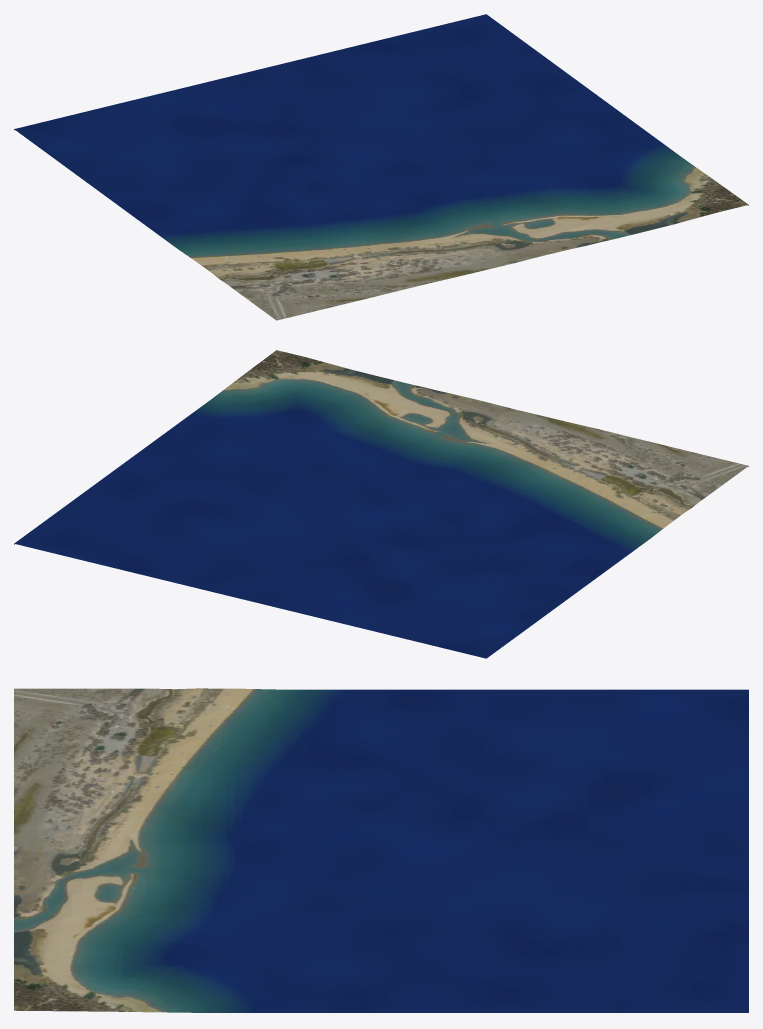
3 renders of one model, top to bottom at view 1: azimuth 30°, elevation 25°; view 2: azimuth 150°, elevation 25°; view 3: azimuth 270°, elevation 25°, orthographic. The views are drawn at different scales.
Bounding box in the file's own units: 1000 × 5.55 × 963.
1 material, 1 textured.
